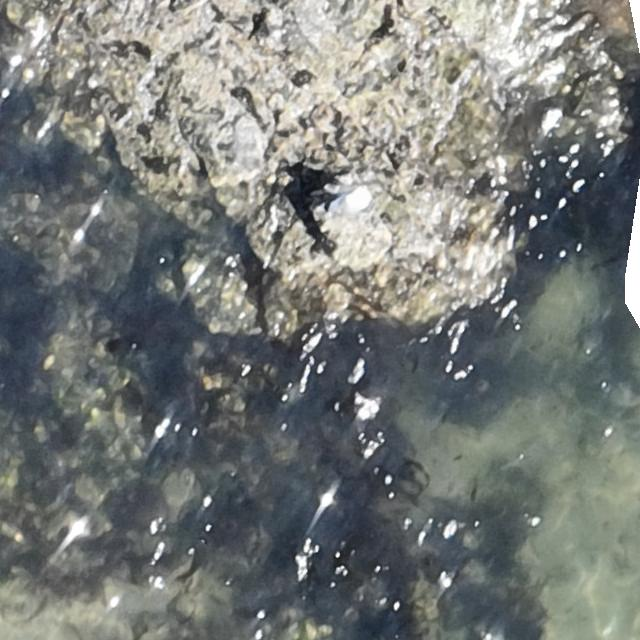umineko: (316, 188, 375, 218)
